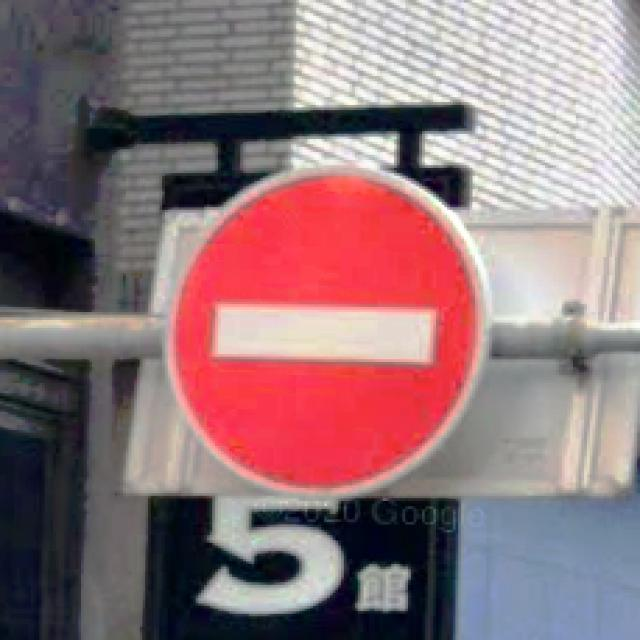noentry: (164, 161, 496, 496)
